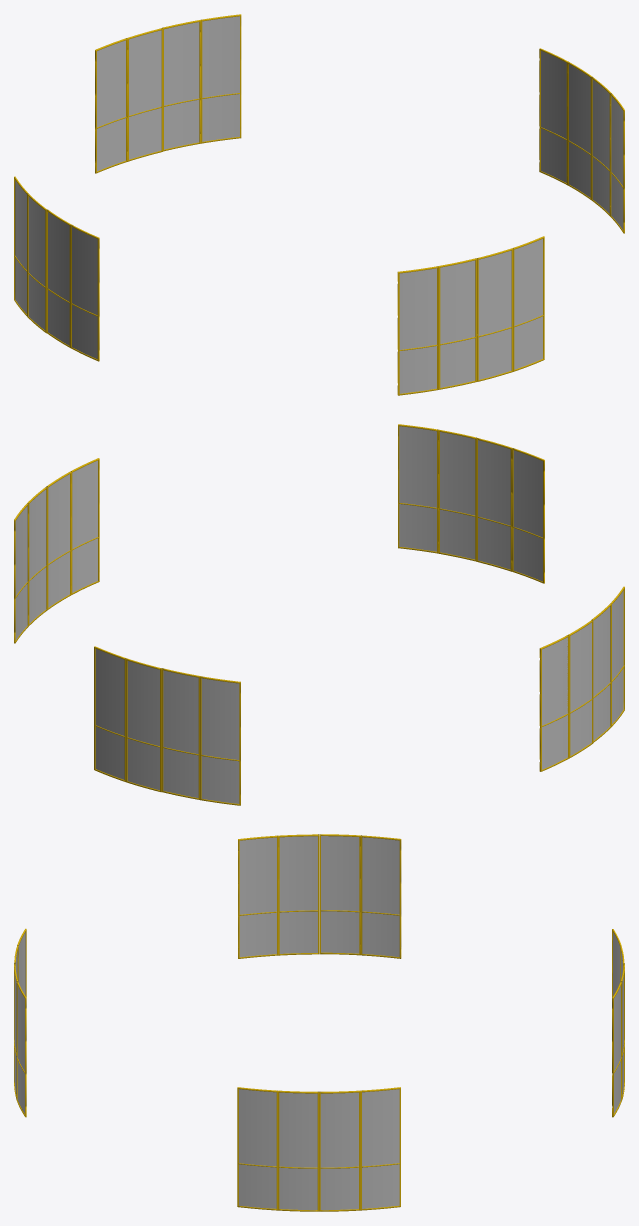
Rendered from doors.glb.
3 renders of one model, top to bottom at view 1: azimuth 30°, elevation 25°; view 2: azimuth 150°, elevation 25°; view 3: azimuth 270°, elevation 25°, orthographic. The views are drawn at different scales.
Parts seen in each view (by area): view 1: Door_SuNgiep_R, Door_QueHuong_R, Door_SuNgiep_L, Door_QueHuong_L, Door_MauChuyen_L, Door_HanhTrinh_L, Door_HanhTrinh_R, Door_MauChuyen_R; view 2: Door_QueHuong_L, Door_SuNgiep_L, Door_SuNgiep_R, Door_QueHuong_R, Door_MauChuyen_R, Door_HanhTrinh_R, Door_HanhTrinh_L, Door_MauChuyen_L; view 3: Door_HanhTrinh_R, Door_MauChuyen_R, Door_HanhTrinh_L, Door_MauChuyen_L, Door_SuNgiep_L, Door_QueHuong_R, Door_SuNgiep_R, Door_QueHuong_L.
Part boxes in pixels (left/top/right/bottom): Door_SuNgiep_R: left=397, top=258, right=476, bottom=395; Door_QueHuong_R: left=162, top=14, right=241, bottom=151; Door_SuNgiep_L: left=477, top=236, right=544, bottom=381; Door_QueHuong_L: left=95, top=28, right=162, bottom=173; Door_MauChuyen_L: left=46, top=209, right=99, bottom=361; Door_HanhTrinh_L: left=539, top=48, right=592, bottom=199; Door_HanhTrinh_R: left=591, top=77, right=624, bottom=233; Door_MauChuyen_R: left=14, top=176, right=46, bottom=333; Door_QueHuong_L: left=161, top=668, right=240, bottom=805; Door_SuNgiep_L: left=398, top=424, right=476, bottom=561; Door_SuNgiep_R: left=476, top=438, right=544, bottom=583; Door_QueHuong_R: left=94, top=646, right=161, bottom=792; Door_MauChuyen_R: left=539, top=620, right=593, bottom=771; Door_HanhTrinh_R: left=46, top=458, right=99, bottom=609; Door_HanhTrinh_L: left=14, top=486, right=47, bottom=643; Door_MauChuyen_L: left=591, top=586, right=624, bottom=742; Door_HanhTrinh_R: left=237, top=1087, right=319, bottom=1211; Door_MauChuyen_R: left=319, top=834, right=401, bottom=958; Door_HanhTrinh_L: left=319, top=1087, right=400, bottom=1211; Door_MauChuyen_L: left=238, top=834, right=319, bottom=958; Door_SuNgiep_L: left=14, top=963, right=26, bottom=1117; Door_QueHuong_R: left=612, top=963, right=624, bottom=1117; Door_SuNgiep_R: left=14, top=928, right=26, bottom=997; Door_QueHuong_L: left=612, top=929, right=624, bottom=1041.
Bounding box in the file's own units: 12.96 × 2.8 × 12.96.
